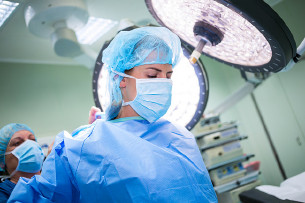face_mask: (127, 64, 172, 122), (4, 129, 40, 164)
